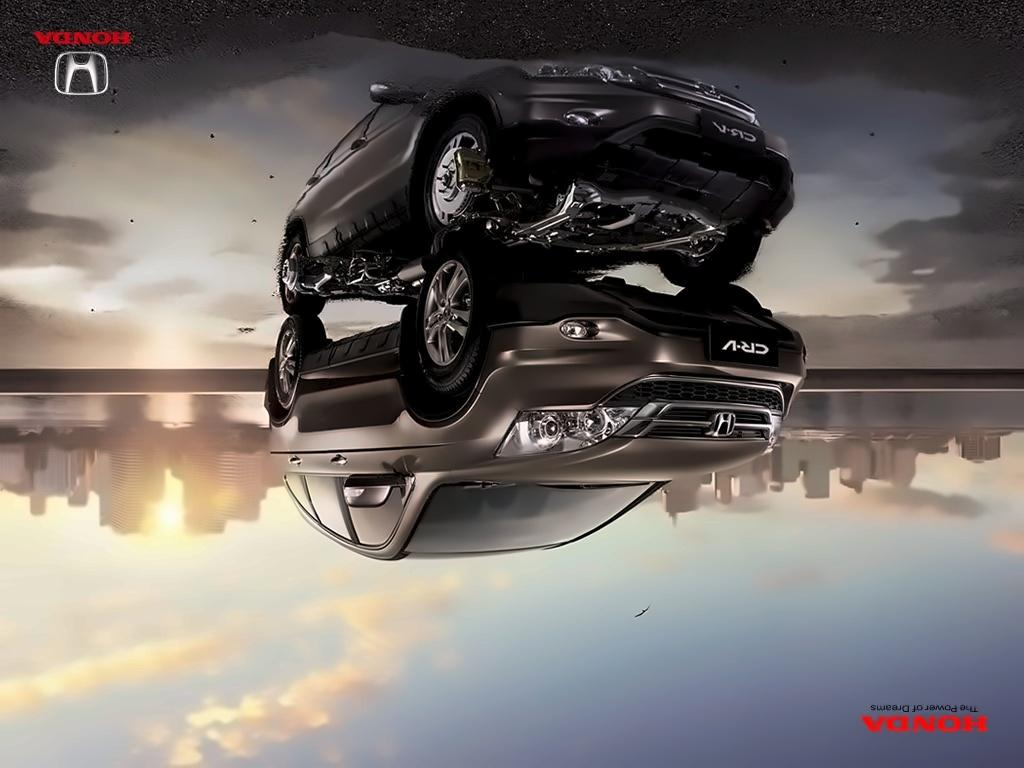Car hood: (450, 434, 790, 488)
Fender - -F-L-: (388, 349, 523, 496)
Front bumper: (475, 273, 817, 398)
Headlight - -L-: (490, 400, 647, 468)
Headlight - -R-: (759, 411, 792, 459)
Passenger-s door - -F-L-: (328, 385, 421, 561)
Passenger-s door - -R-L-: (271, 381, 325, 536)
Side bumper - -L-: (283, 315, 409, 400)
Side mirror - -L-: (340, 465, 416, 516)
